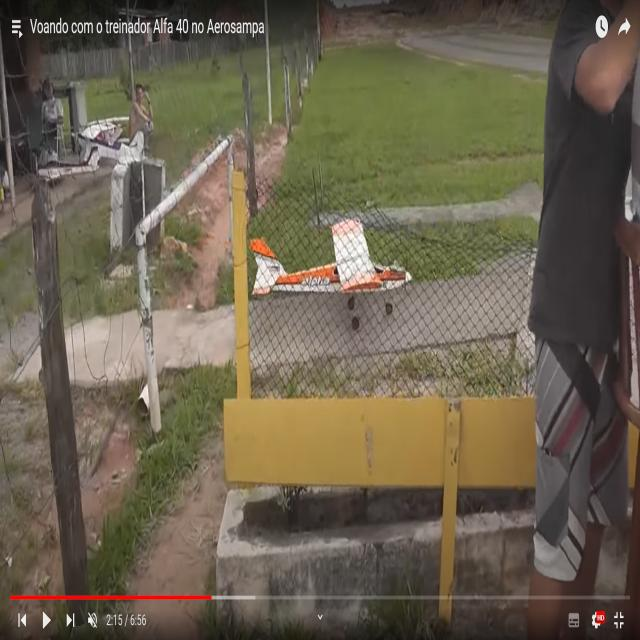iha: (242, 248, 407, 300)
